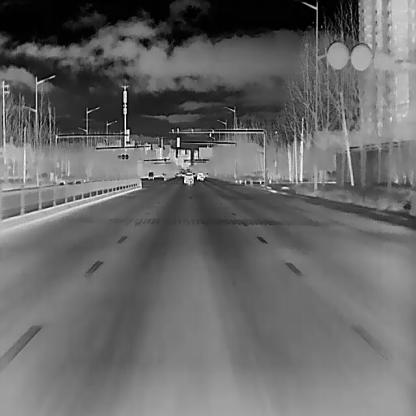car: (183, 170, 193, 182), (196, 170, 204, 180), (148, 170, 154, 178)
